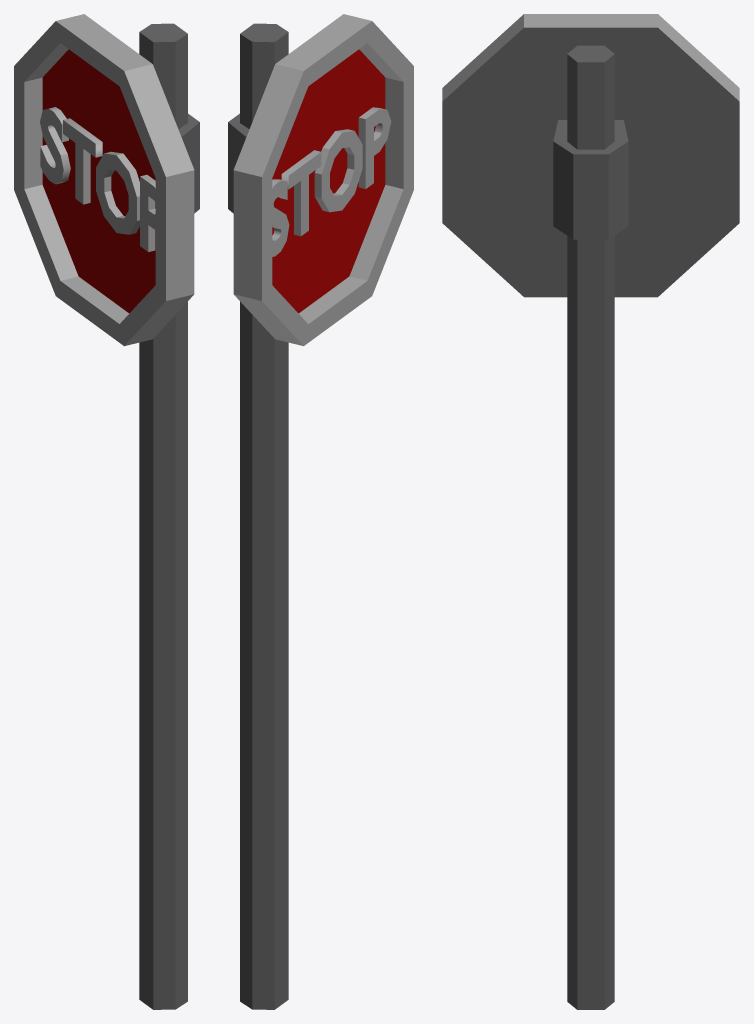
The model's file is StopSign.fbx.
The picture shows the model from 3 angles, left to right: view 1: azimuth 30°, elevation 25°; view 2: azimuth 150°, elevation 25°; view 3: azimuth 270°, elevation 25°; orthographic projection. The views are drawn at different scales.
Visible parts, largest first — view 1: polySurface1; view 2: polySurface1; view 3: polySurface1.
Part boxes in pixels (x1,y1,x2,y2): polySurface1: [14, 14, 199, 1009]; polySurface1: [228, 14, 413, 1009]; polySurface1: [442, 14, 739, 1009].
Size of the model in its own units: 24.92 by 230 by 64.95.
